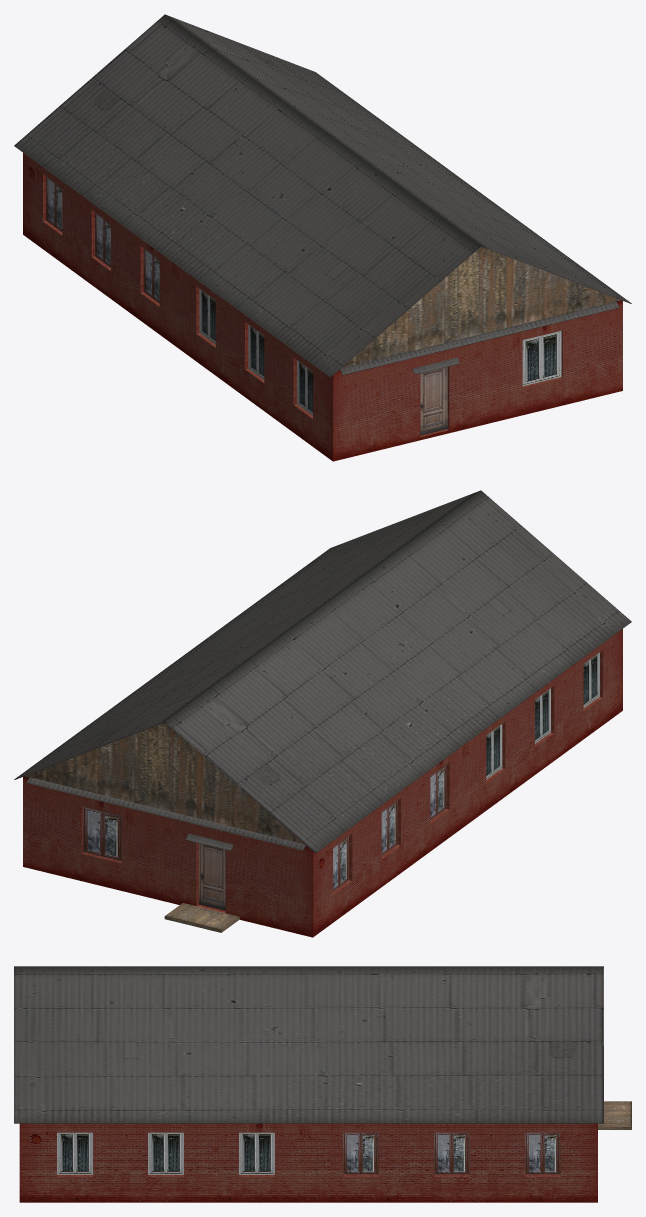
The model's file is Dhz_zsfz_04.FBX.
3 views of the same model, one above another, from view 1: azimuth 30°, elevation 25°; view 2: azimuth 150°, elevation 25°; view 3: azimuth 270°, elevation 25° (orthographic). The views are drawn at different scales.
Parts seen in each view (by area): view 1: Dhz_zsfz_04; view 2: Dhz_zsfz_04; view 3: Dhz_zsfz_04.
Part boxes in pixels (x1,y1,x2,y2): Dhz_zsfz_04: [14, 14, 631, 461]; Dhz_zsfz_04: [14, 490, 631, 937]; Dhz_zsfz_04: [14, 966, 631, 1202].
Size of the model in its own units: 10.41 by 6.02 by 19.79.
